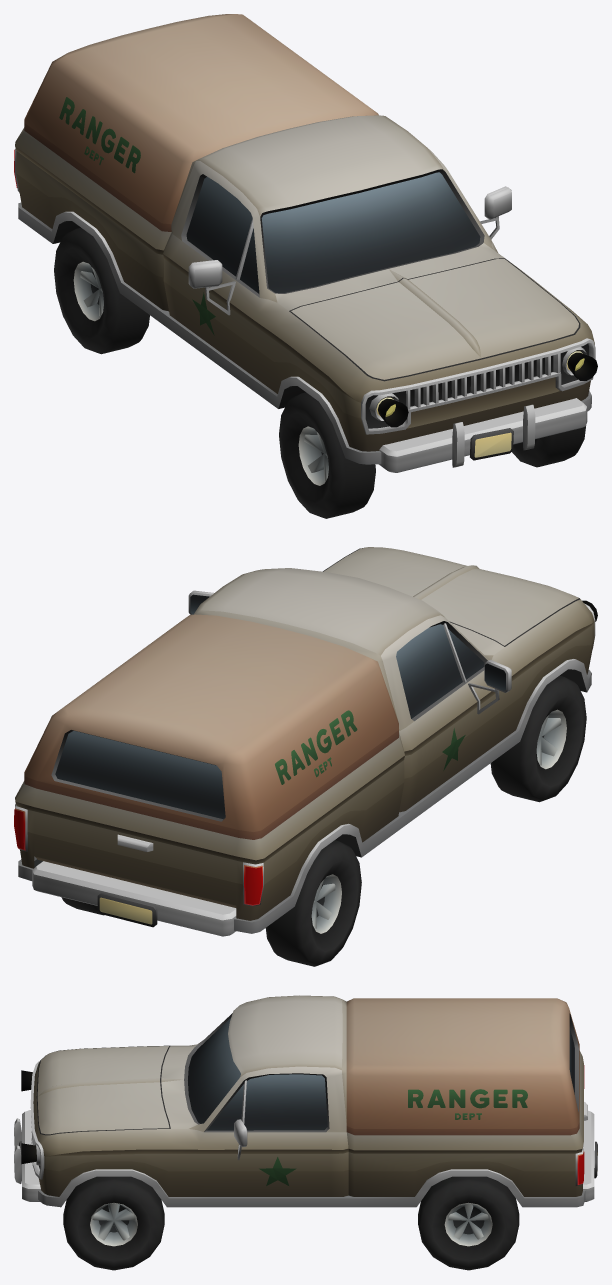
The model's file is Truck_3C.fbx.
3 views of the same model, one above another, from view 1: azimuth 30°, elevation 25°; view 2: azimuth 150°, elevation 25°; view 3: azimuth 270°, elevation 25° (orthographic). The views are drawn at different scales.
Visible parts, largest first — view 1: Truck_3C, Truck_3C_Wheel_F.R, Truck_3C_Wheel_R.R, Truck_3C_Livery, Truck_3C_Wheel_F.L, Truck_3C_Rays; view 2: Truck_3C, Truck_3C_Wheel_R.R, Truck_3C_Wheel_F.R, Truck_3C_Livery, Truck_3C_Lights; view 3: Truck_3C, Truck_3C_Wheel_F.L, Truck_3C_Wheel_R.L, Truck_3C_Livery, Truck_3C_Rays.
Part boxes in pixels (x1,y1,x2,y2): Truck_3C: (14, 14, 595, 472); Truck_3C_Wheel_F.R: (279, 392, 375, 518); Truck_3C_Wheel_R.R: (54, 227, 149, 354); Truck_3C_Livery: (59, 97, 215, 335); Truck_3C_Wheel_F.L: (512, 425, 586, 467); Truck_3C_Rays: (378, 352, 597, 427); Truck_3C: (15, 547, 595, 936); Truck_3C_Wheel_R.R: (265, 840, 361, 966); Truck_3C_Wheel_F.R: (490, 675, 586, 802); Truck_3C_Livery: (275, 710, 465, 784); Truck_3C_Lights: (14, 809, 262, 904); Truck_3C: (14, 995, 597, 1207); Truck_3C_Wheel_F.L: (63, 1176, 164, 1270); Truck_3C_Wheel_R.L: (418, 1176, 519, 1270); Truck_3C_Livery: (259, 1089, 527, 1185); Truck_3C_Rays: (21, 1070, 36, 1164).
Size of the model in its own units: 312 by 237 by 622.
